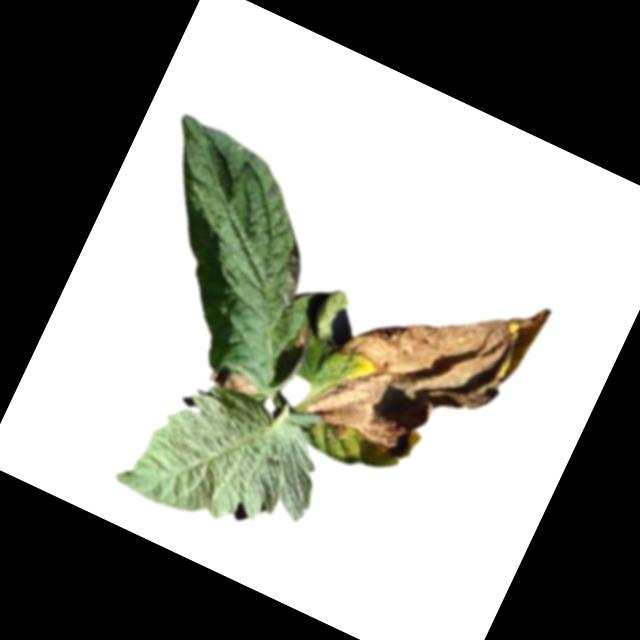Late_blight: (292, 228, 552, 498), (266, 238, 318, 309), (205, 358, 264, 405), (287, 321, 315, 353)
